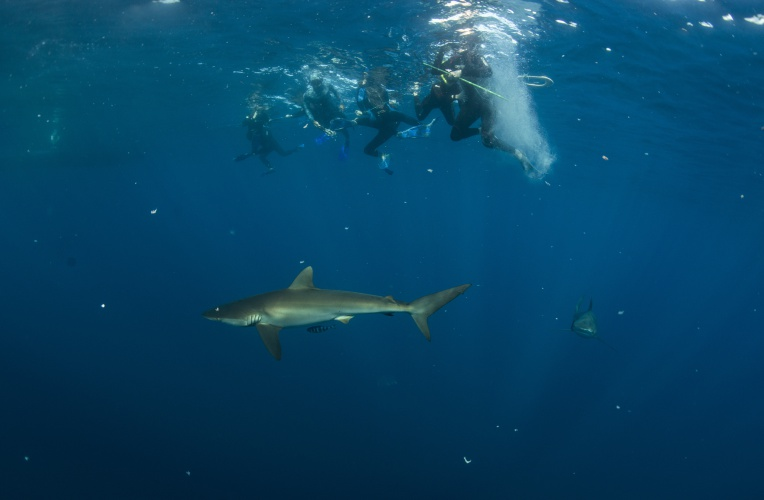Sedoso: (177, 264, 480, 364)
